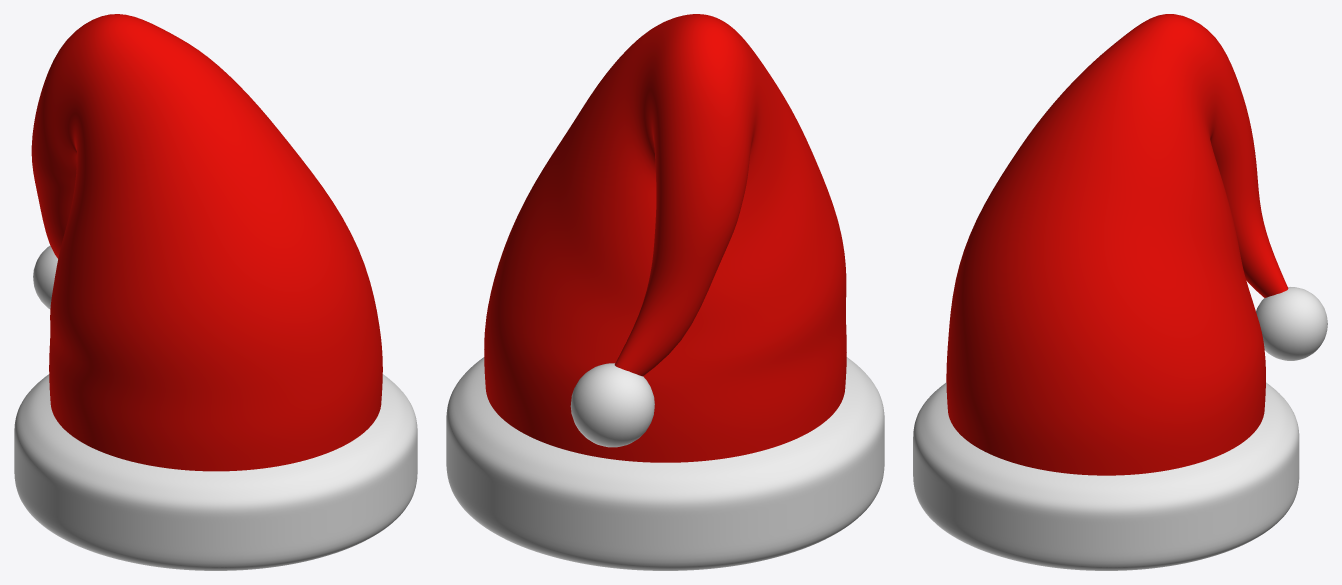
Rendered from SantaHat.glb.
The picture shows the model from 3 angles, left to right: view 1: azimuth 30°, elevation 25°; view 2: azimuth 150°, elevation 25°; view 3: azimuth 270°, elevation 25°; orthographic projection. The views are drawn at different scales.
Visible parts, largest first — view 1: Circle, Circle.001, Sphere; view 2: Circle, Circle.001, Sphere; view 3: Circle, Circle.001, Sphere.
Boxes of the visible parts, left/top/right/bottom form: Circle: left=31, top=14, right=382, bottom=471; Circle.001: left=14, top=374, right=417, bottom=570; Sphere: left=33, top=245, right=57, bottom=309; Circle: left=484, top=14, right=846, bottom=462; Circle.001: left=446, top=357, right=884, bottom=570; Sphere: left=570, top=363, right=654, bottom=447; Circle: left=946, top=14, right=1288, bottom=475; Circle.001: left=913, top=382, right=1299, bottom=570; Sphere: left=1256, top=287, right=1327, bottom=360.
Size of the model in its own units: 2.34 by 3.01 by 2.51.
